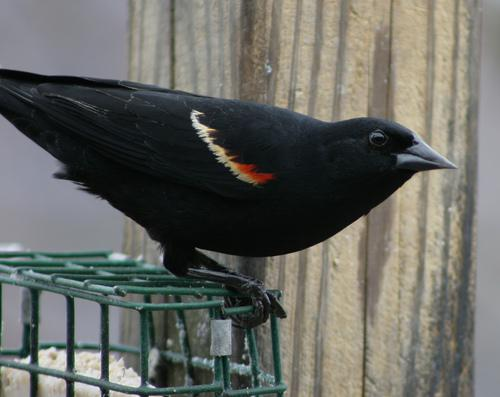010.Red_winged_Blackbird: (1, 65, 458, 327)
